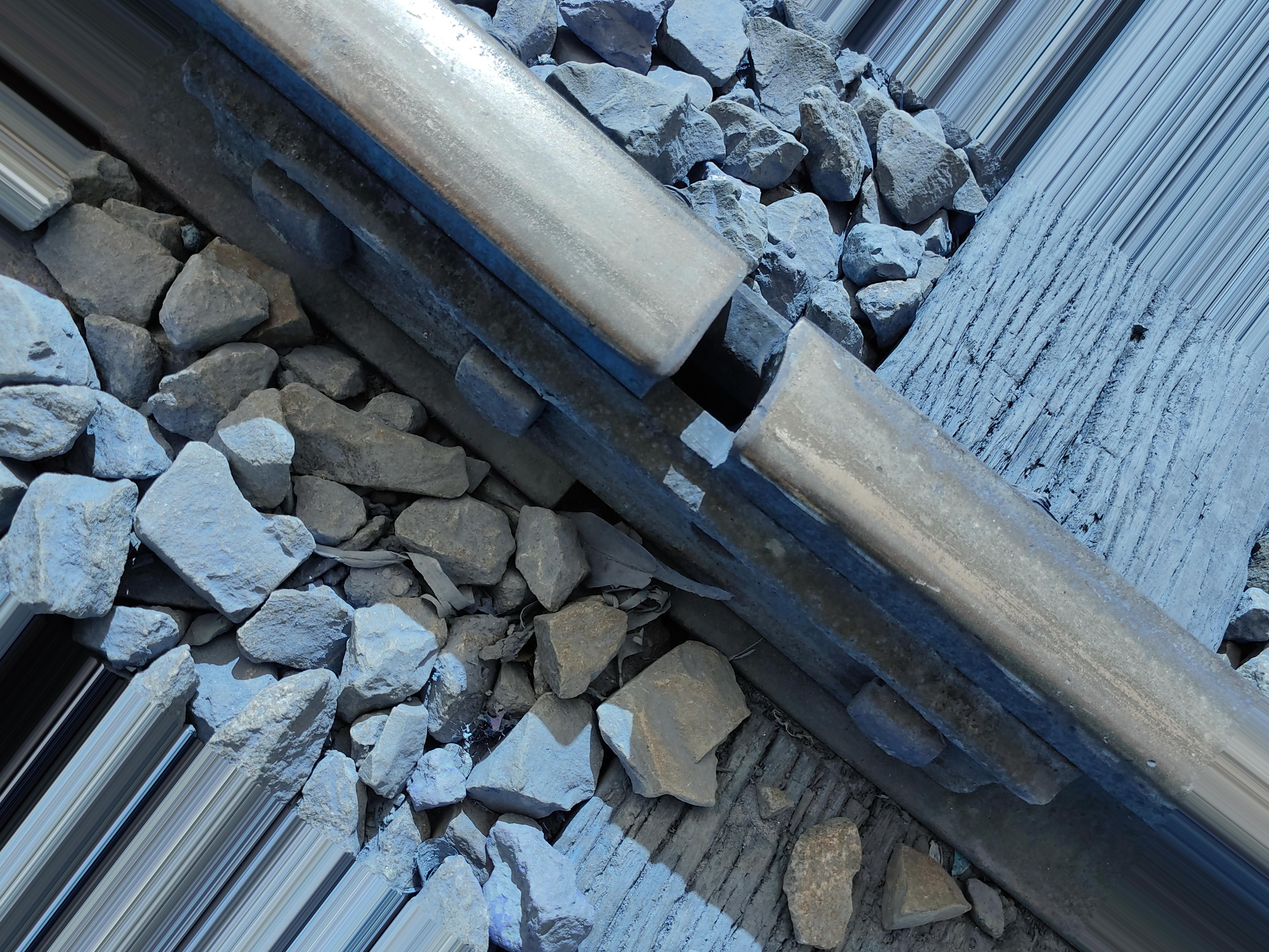tracks_fault: (615, 238, 863, 504)
